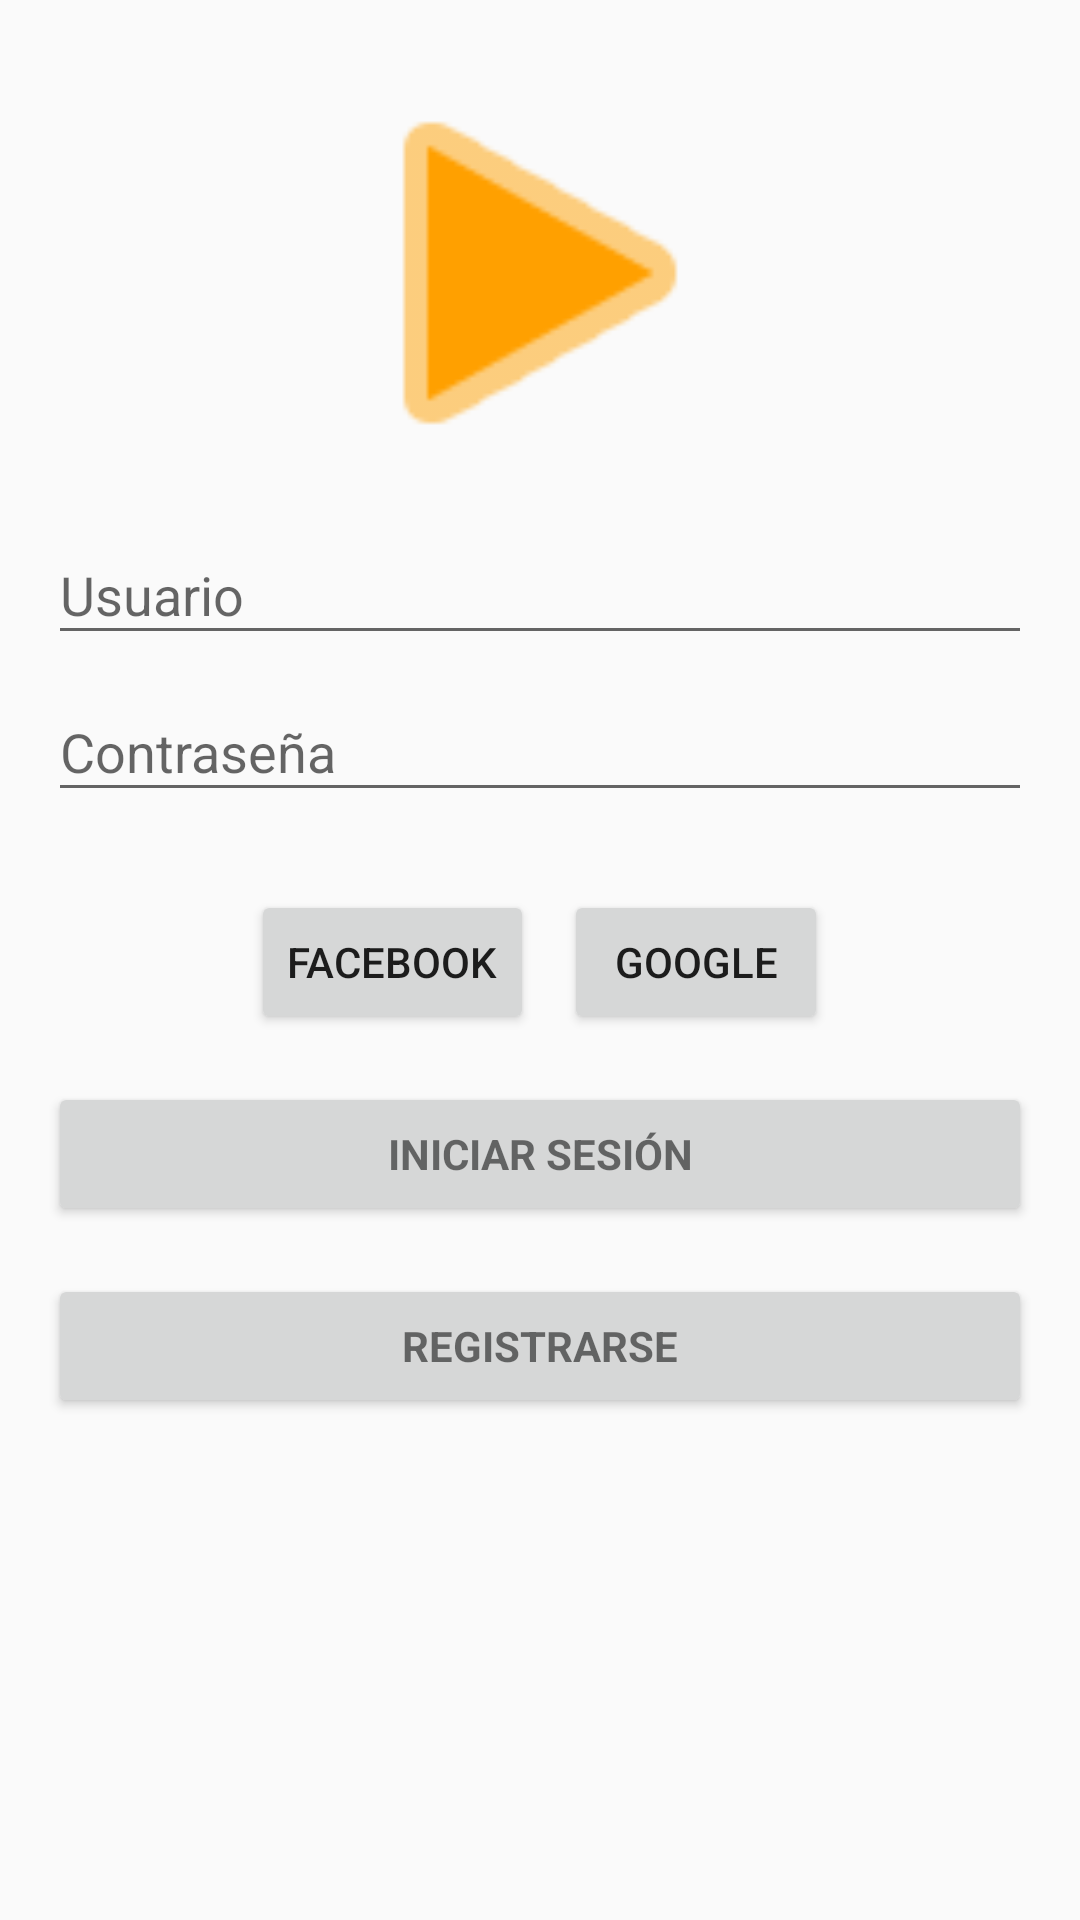

Screen size 1080 × 1920. Icon name, then its box in pixels as (x1, y1, x2, y2):
play: (403, 122, 677, 424)
